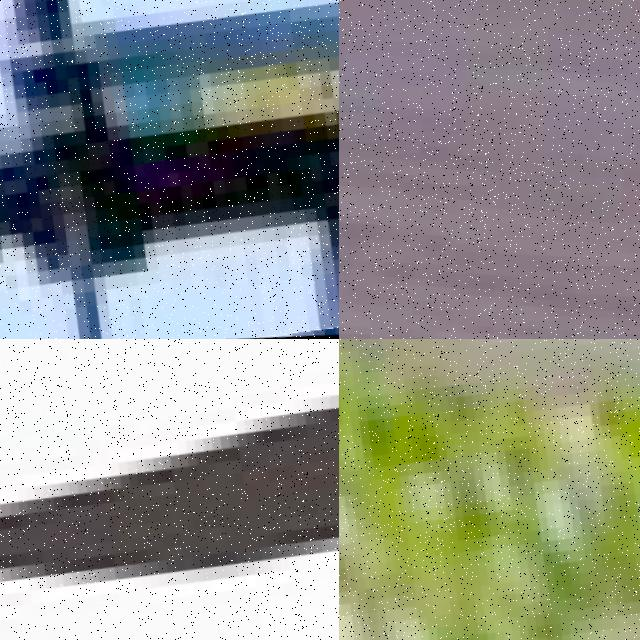0: (0, 0, 339, 339), (339, 339, 640, 640)
drone: (0, 339, 339, 640)
